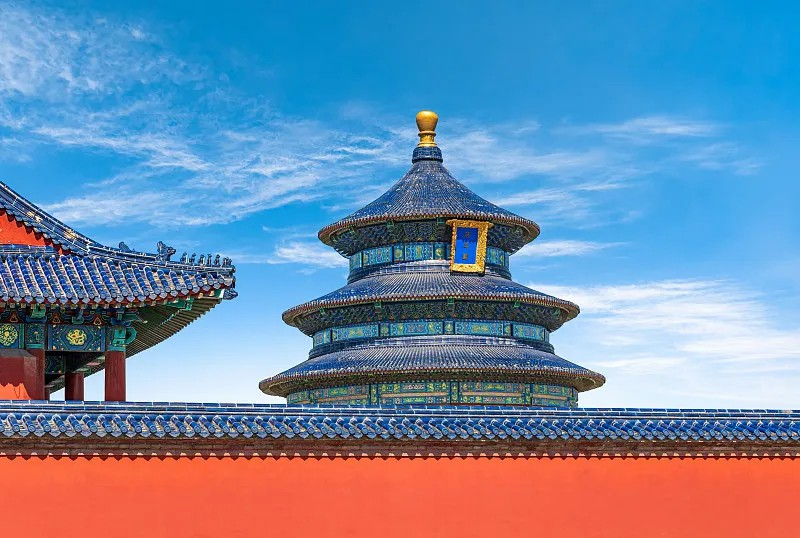Heaven: (256, 110, 605, 410)
